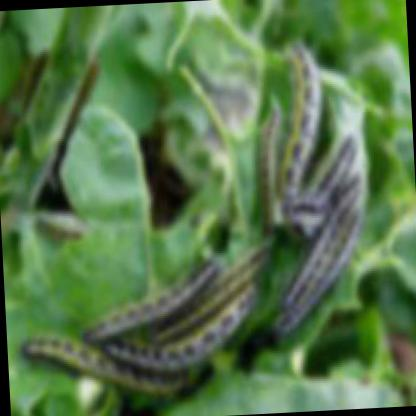pieris: (270, 175, 364, 340), (105, 287, 258, 379), (75, 261, 217, 345), (285, 29, 321, 189)
